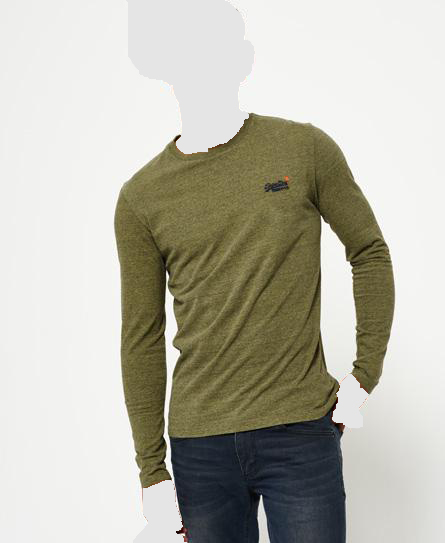teeshirt: (104, 109, 395, 485)
